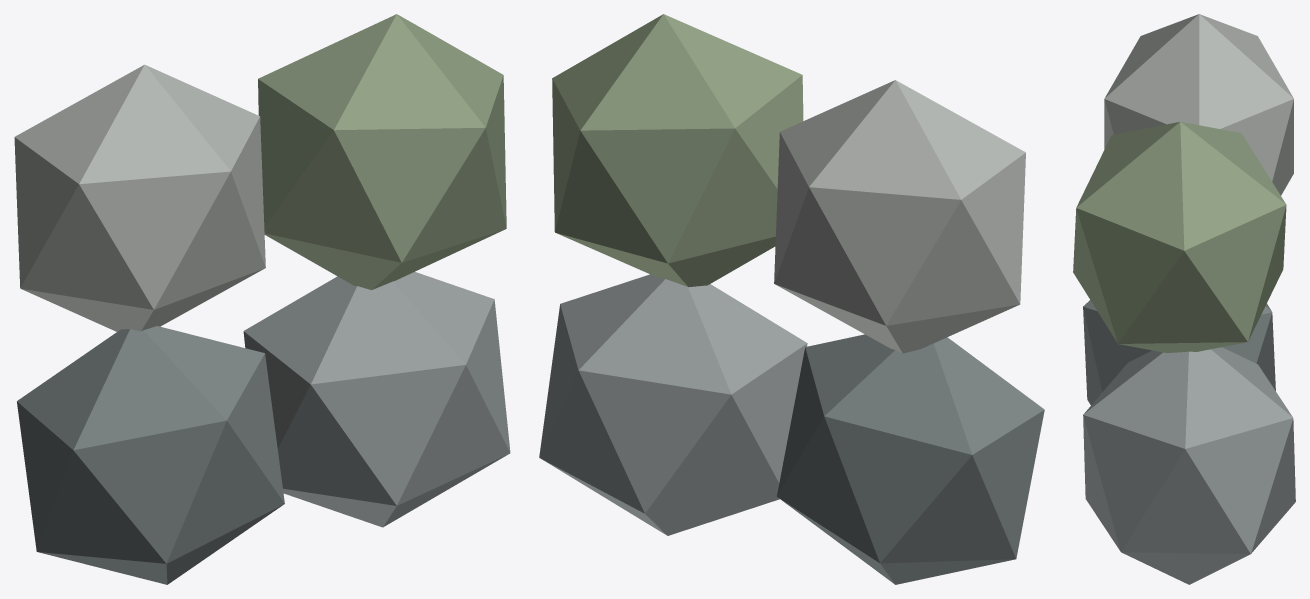
File: cliff_face_2x2.glb
The picture shows the model from 3 angles, left to right: view 1: azimuth 30°, elevation 25°; view 2: azimuth 150°, elevation 25°; view 3: azimuth 270°, elevation 25°; orthographic projection. The views are drawn at different scales.
Visible parts, largest first — view 1: cliff_face_2m_04, cliff_face_2m_01, cliff_face_2m_03, cliff_face_2m_02; view 2: cliff_face_2m_03, cliff_face_2m_02, cliff_face_2m_04, cliff_face_2m_01; view 3: cliff_face_2m_04, cliff_face_2m_02, cliff_face_2m_03, cliff_face_2m_01.
Part boxes in pixels (x1=…): cliff_face_2m_04: x1=258, y1=14, x2=506, y2=289; cliff_face_2m_01: x1=17, y1=326, x2=284, y2=584; cliff_face_2m_03: x1=14, y1=64, x2=265, y2=331; cliff_face_2m_02: x1=243, y1=272, x2=510, y2=527; cliff_face_2m_03: x1=774, y1=80, x2=1025, y2=353; cliff_face_2m_02: x1=539, y1=274, x2=807, y2=535; cliff_face_2m_04: x1=552, y1=14, x2=803, y2=287; cliff_face_2m_01: x1=777, y1=334, x2=1044, y2=584; cliff_face_2m_04: x1=1073, y1=121, x2=1286, y2=353; cliff_face_2m_02: x1=1083, y1=347, x2=1295, y2=584; cliff_face_2m_03: x1=1104, y1=14, x2=1293, y2=195; cliff_face_2m_01: x1=1083, y1=300, x2=1275, y2=404.
Size of the model in its own units: 2.05 by 2.13 by 0.9187.
